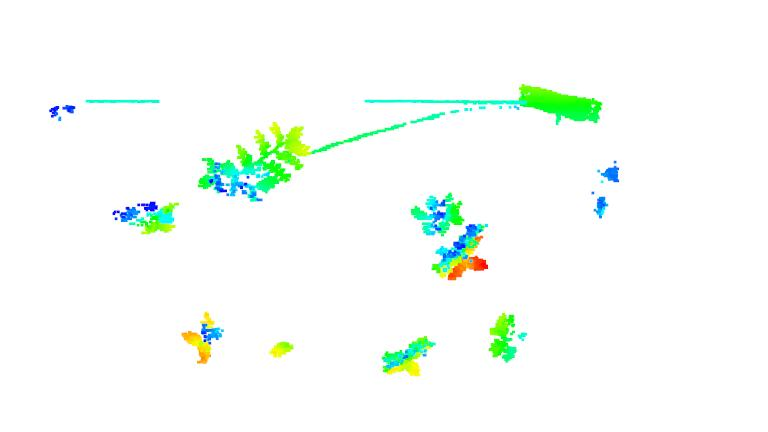chickpea: (195, 123, 310, 206), (431, 219, 492, 284), (109, 196, 182, 237), (178, 310, 226, 365), (380, 333, 436, 377), (412, 190, 465, 235), (487, 311, 529, 362)
